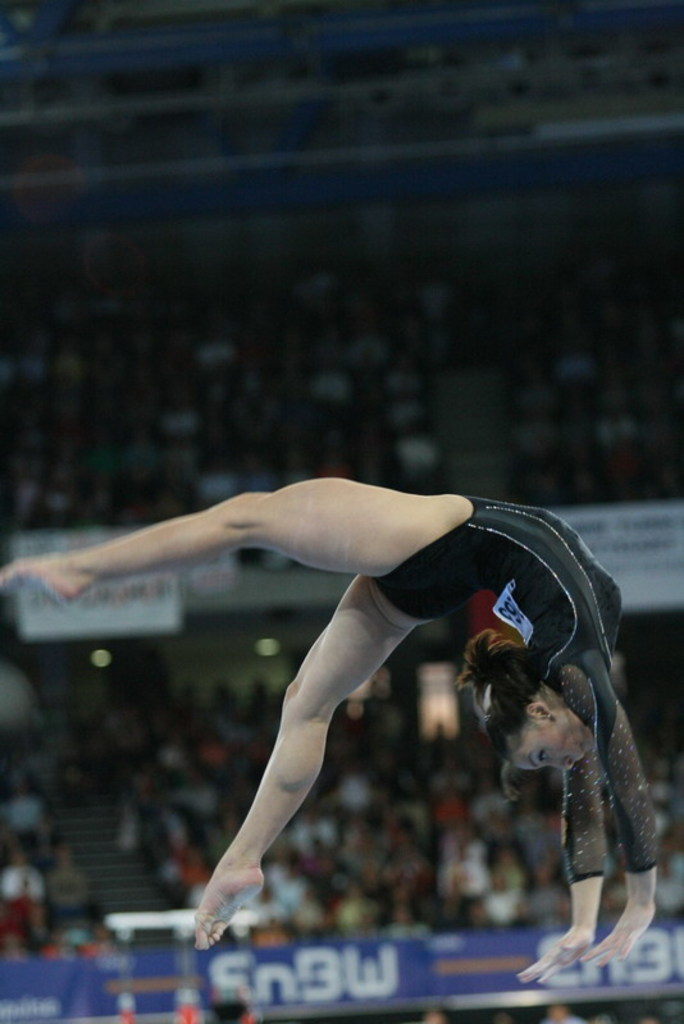Person: (0, 475, 660, 985), (0, 678, 684, 957)
